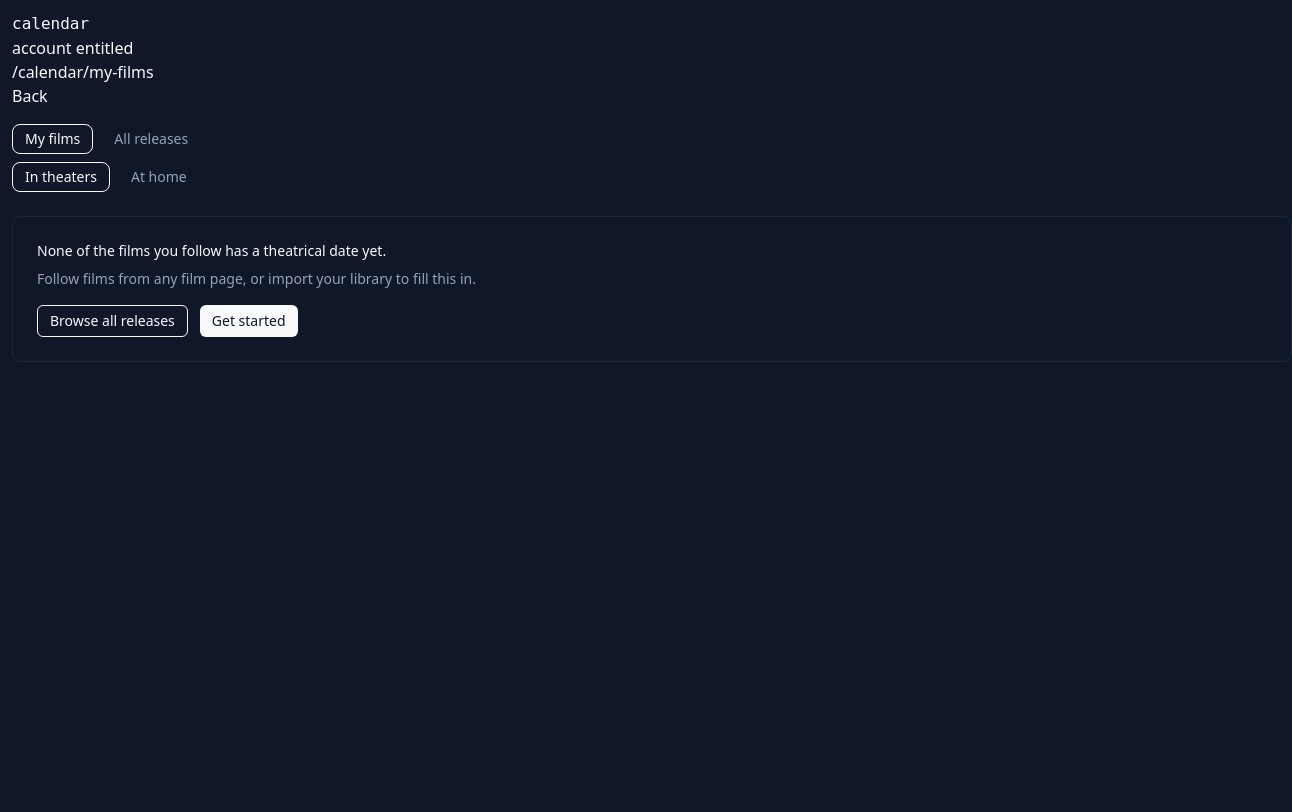
Scenario: calendar view — the three My films states › reads no dated follows as empty, and offers the other tab and onboarding
Expected: the text "None of the films you follow has a theatrical date yet." is shown, [37,241,386,260]
Step 1. Click the link "Browse all releases" → (112, 321), box [37,305,188,337]
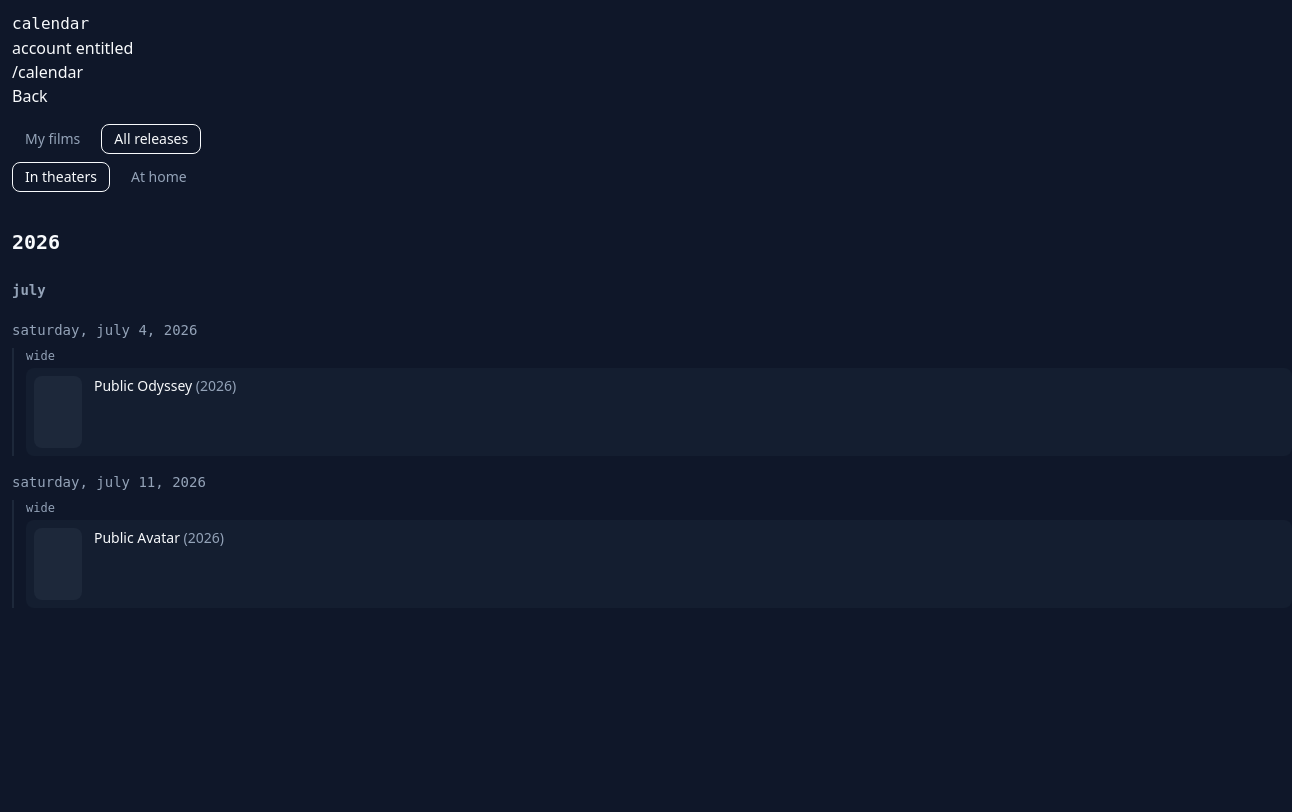
Expected: the text with test id "location" reads "/calendar", [12,61,83,83]
Result: the text "Public Odyssey" is shown at [94,376,192,395]
